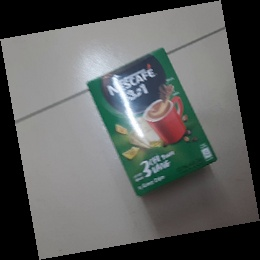Nes Rang: (88, 47, 219, 198)
